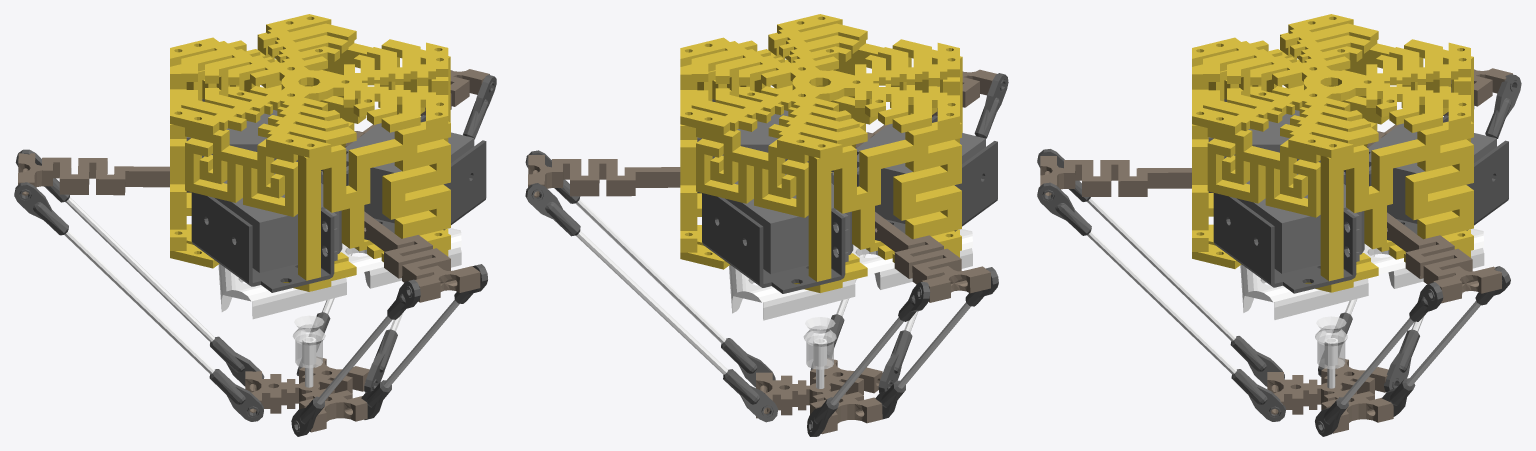
File: parallel-revolute1.glb
3 views of the same model, side by side, from view 1: azimuth 30°, elevation 25°; view 2: azimuth 150°, elevation 25°; view 3: azimuth 270°, elevation 25° (orthographic).
Visible parts, largest first — view 1: base, end-effector, arm.002, arm.001, joint.003, joint.002, joint.001, joint.004, joint, arm, joint.005; view 2: base, end-effector, arm.001, arm, joint.005, joint.004, joint.002, joint.001, joint.003, arm.002, joint; view 3: base, end-effector, arm, arm.002, joint, joint.001, joint.004, joint.002, joint.005, arm.001, joint.003.
Part boxes in pixels (bbox=[...]): base: bbox=[170, 14, 486, 319]; end-effector: bbox=[245, 315, 369, 432]; arm.002: bbox=[364, 211, 480, 302]; arm.001: bbox=[18, 153, 169, 195]; joint.003: bbox=[14, 182, 263, 421]; joint.002: bbox=[15, 149, 264, 386]; joint.001: bbox=[291, 279, 420, 436]; joint.004: bbox=[364, 74, 496, 392]; joint: bbox=[361, 264, 487, 419]; arm: bbox=[345, 69, 489, 147]; joint.005: bbox=[296, 253, 352, 375]; base: bbox=[680, 14, 997, 320]; end-effector: bbox=[756, 317, 882, 434]; arm.001: bbox=[875, 212, 990, 302]; arm: bbox=[528, 155, 680, 197]; joint.005: bbox=[525, 183, 778, 422]; joint.004: bbox=[525, 150, 775, 387]; joint.002: bbox=[807, 282, 930, 436]; joint.001: bbox=[878, 73, 1008, 392]; joint.003: bbox=[875, 267, 998, 419]; arm.002: bbox=[855, 69, 996, 148]; joint: bbox=[810, 254, 865, 370]; base: bbox=[1192, 14, 1508, 319]; end-effector: bbox=[1267, 316, 1393, 433]; arm: bbox=[1387, 212, 1501, 303]; arm.002: bbox=[1040, 156, 1191, 196]; joint: bbox=[1037, 182, 1285, 421]; joint.001: bbox=[1037, 149, 1284, 386]; joint.004: bbox=[1315, 282, 1443, 436]; joint.002: bbox=[1384, 74, 1521, 392]; joint.005: bbox=[1381, 266, 1510, 416]; arm.001: bbox=[1367, 68, 1512, 147]; joint.003: bbox=[1318, 254, 1374, 376].
Size of the model in its own units: 0.1978 by 0.1322 by 0.1735.
